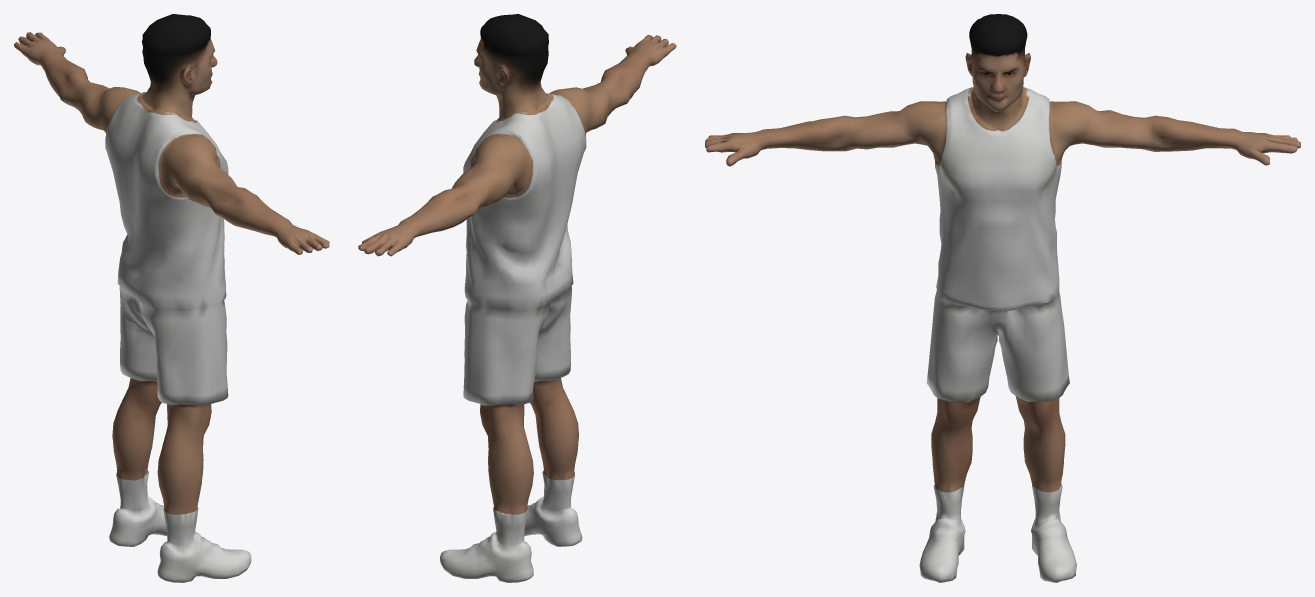
Rendered from spieler_c.glb.
3 renders of one model, left to right at view 1: azimuth 30°, elevation 25°; view 2: azimuth 150°, elevation 25°; view 3: azimuth 270°, elevation 25°, orthographic.
Parts seen in each view (by area): view 1: spieler; view 2: spieler; view 3: spieler.
Boxes of the visible parts, x1,y1,x2,y2 form: spieler: (14, 14, 329, 582); spieler: (358, 14, 676, 582); spieler: (705, 14, 1300, 582).
Bounding box in the file's own units: 0.1855 × 0.998 × 0.9824.
1 material, 1 textured.
